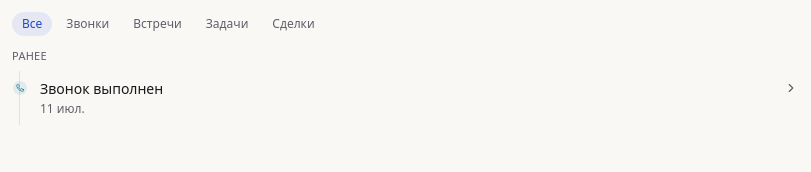
S-TL-3 — виды уходят в RPC › набор видов входит в queryKey: кеш «Все» не отдаётся под «Задачи»
Expected: the text "Звонок выполнен" is shown, x1=40 y1=78 x2=163 y2=98
Click the button "Задачи" at (227, 24), box x1=196 y1=12 x2=258 y2=36
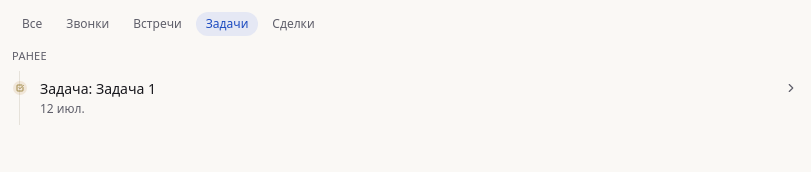
Result: the text "Задача: Задача 1" is shown at x1=40 y1=78 x2=156 y2=98
Result: the button "Звонок выполнен" is gone
// Возврат на «Все» отдаёт свою запись кеша, а не ленту задач.
Click the button "Все" at (32, 24), box x1=12 y1=12 x2=52 y2=36
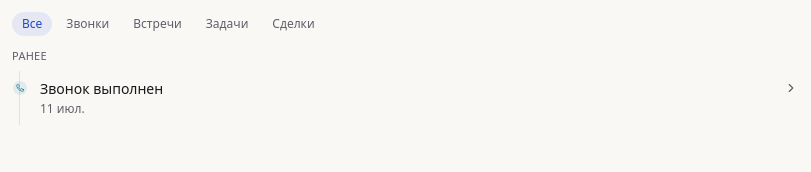
Result: the text "Звонок выполнен" is shown at x1=40 y1=78 x2=163 y2=98
Result: the button "Задача: Задача 1" is gone
